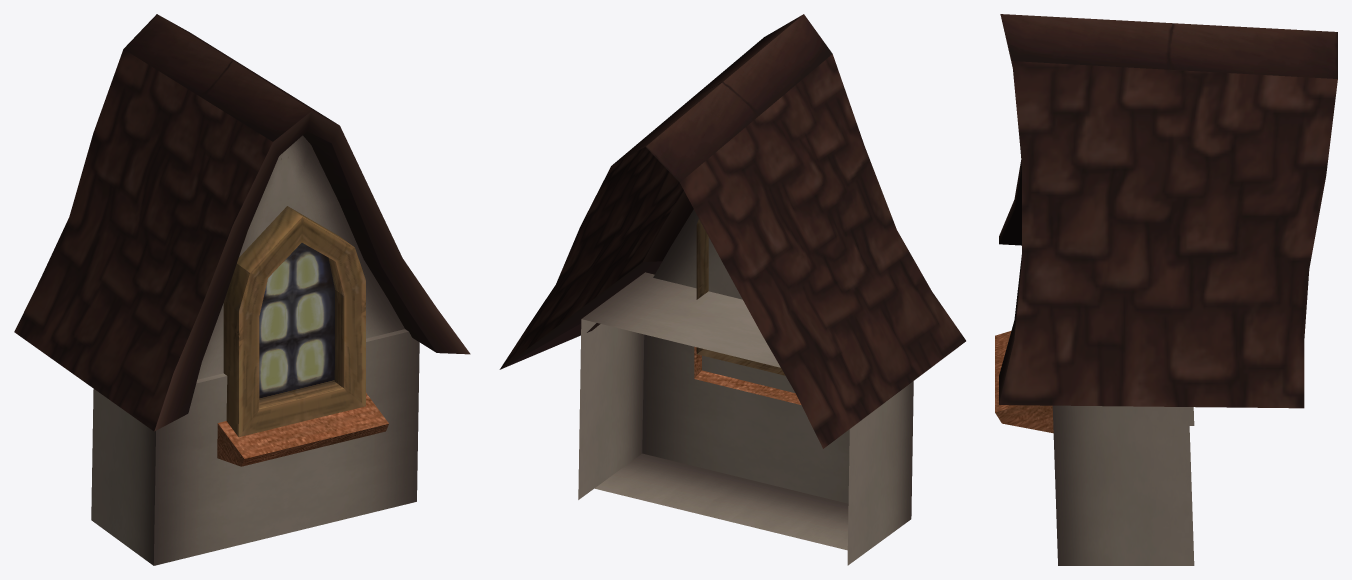
Rendered from fanasty_mod_roof_window01.fbx.
3 renders of one model, left to right at view 1: azimuth 30°, elevation 25°; view 2: azimuth 150°, elevation 25°; view 3: azimuth 270°, elevation 25°, orthographic. The views are drawn at different scales.
Parts seen in each view (by area): view 1: roof_window_01; view 2: roof_window_01; view 3: roof_window_01.
Boxes of the visible parts, x1,y1,x2,y2 form: roof_window_01: (14,14,470,565); roof_window_01: (499,14,965,565); roof_window_01: (995,14,1337,565).
Size of the model in its own units: 2.84 by 3.79 by 2.44.
